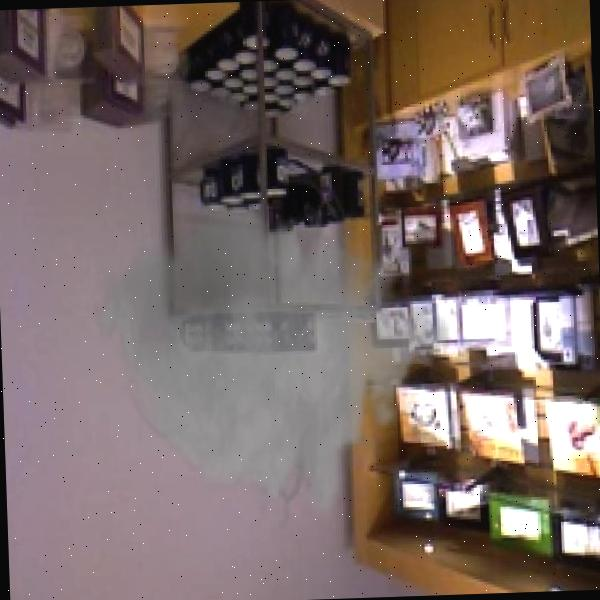smoke: (88, 154, 461, 543)
